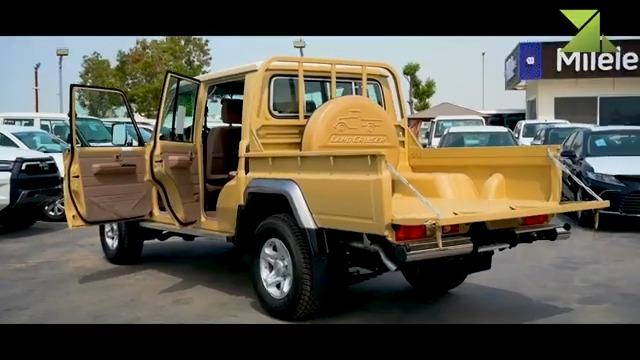MIL_HMMWV: (60, 60, 612, 318), (562, 124, 640, 225)
